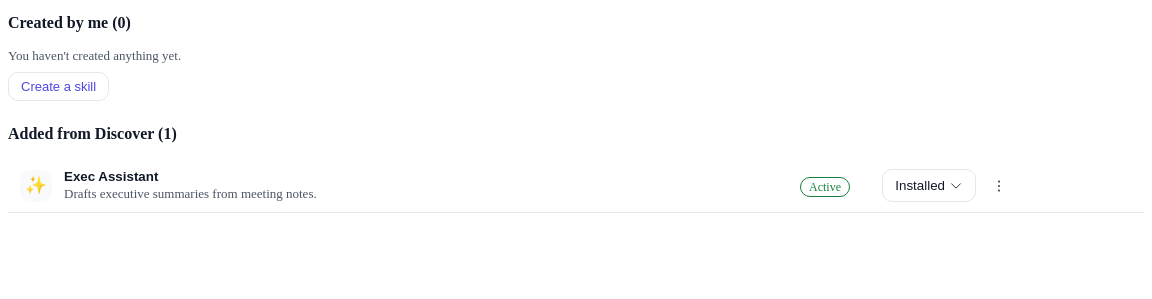
Yours › list layout folds badges into the kebab menu's info lines below the narrow breakpoint, with no surfaces line
Expected: the element with test id "yours-install-row" is shown, [8,159,1144,213]
Click the button with test id "kebab-trigger": (999, 186) [982,172,1016,198]
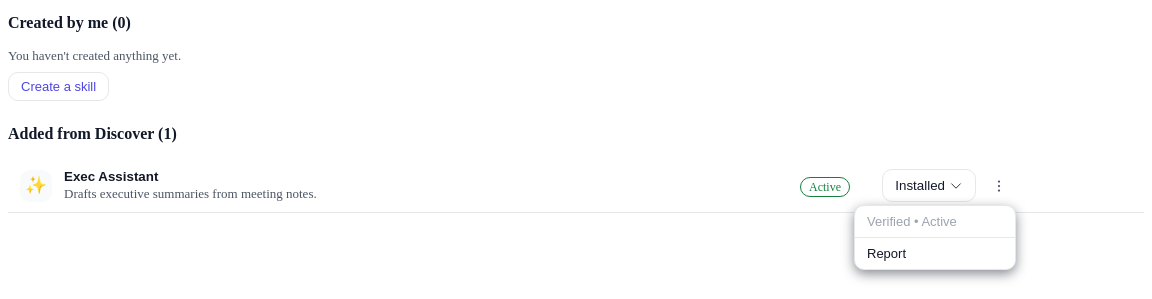
Now the menu item "Verified • Active" is shown, box [855,206,1015,236]
